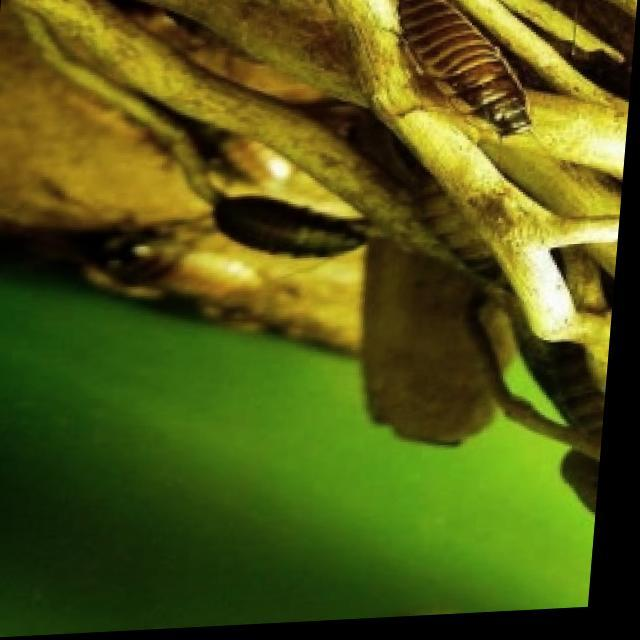cockroach: (372, 3, 550, 159)
